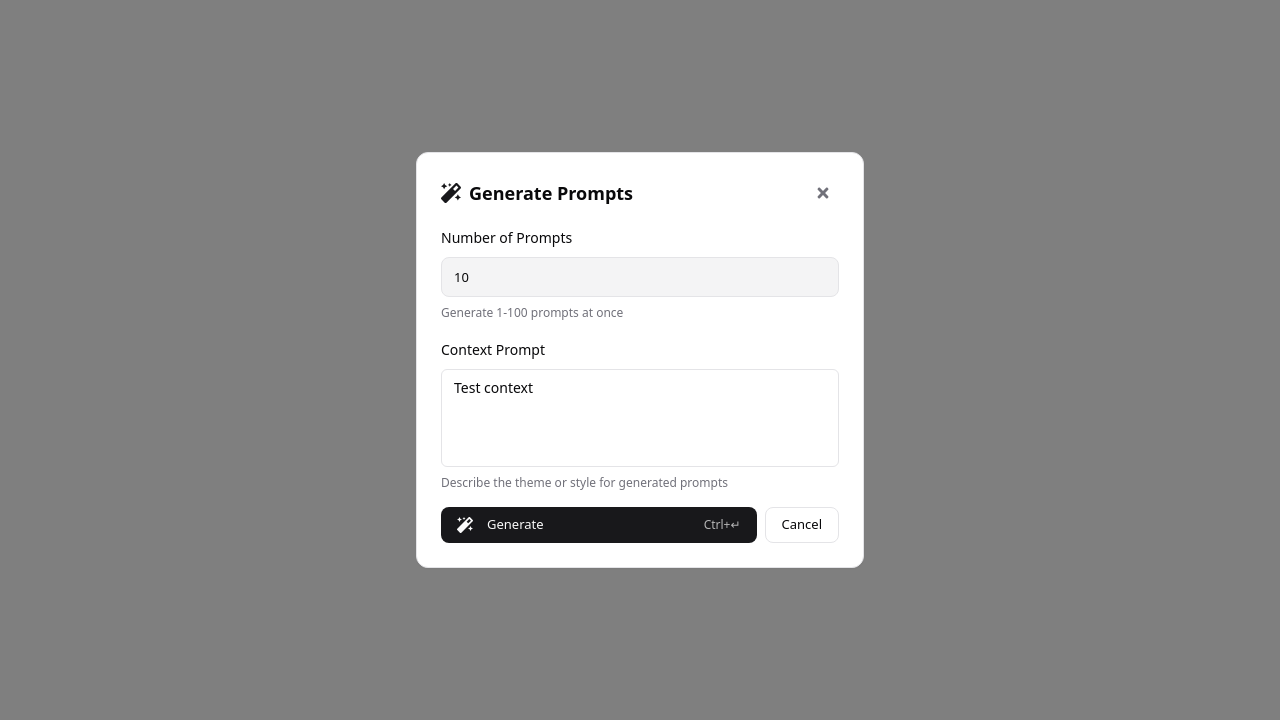
Test: GenerateDialog › should show error when API key is missing
Click the button "Generate Ctrl+↵" at point(515, 524), box [441, 507, 756, 543]
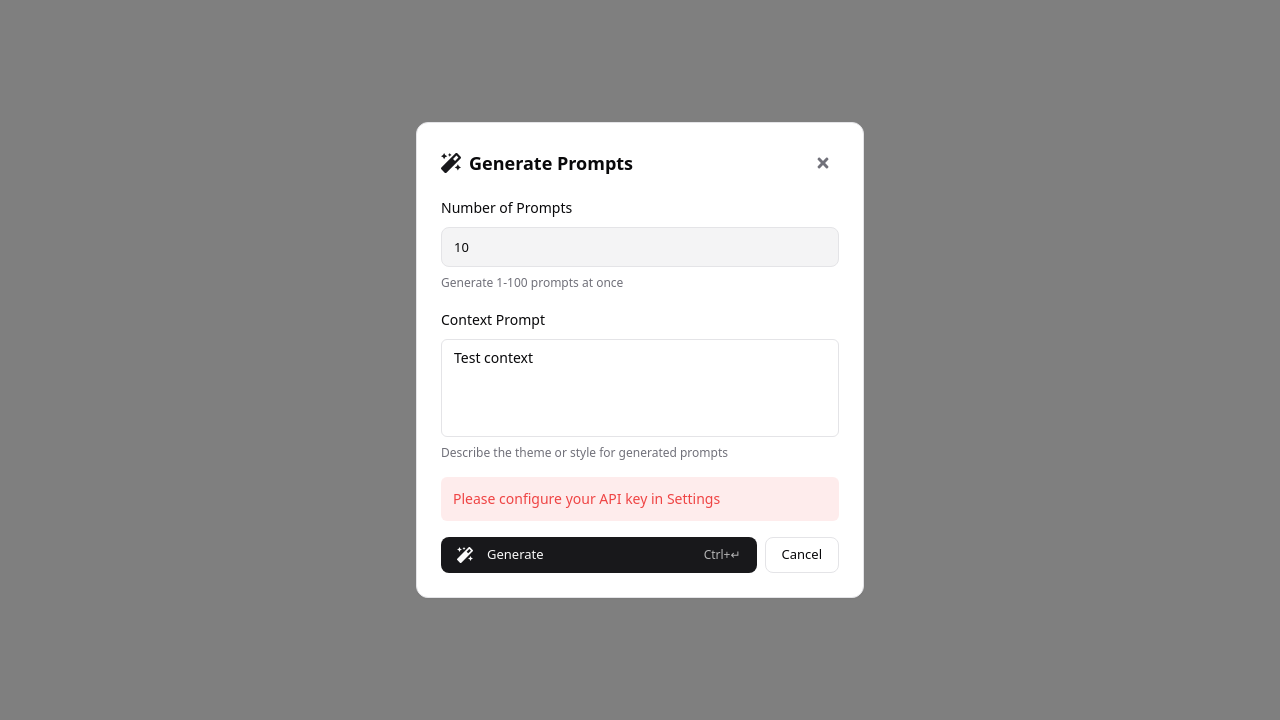
Check: the text "Please configure your API key in Settings" is shown, box [441, 477, 839, 521]
